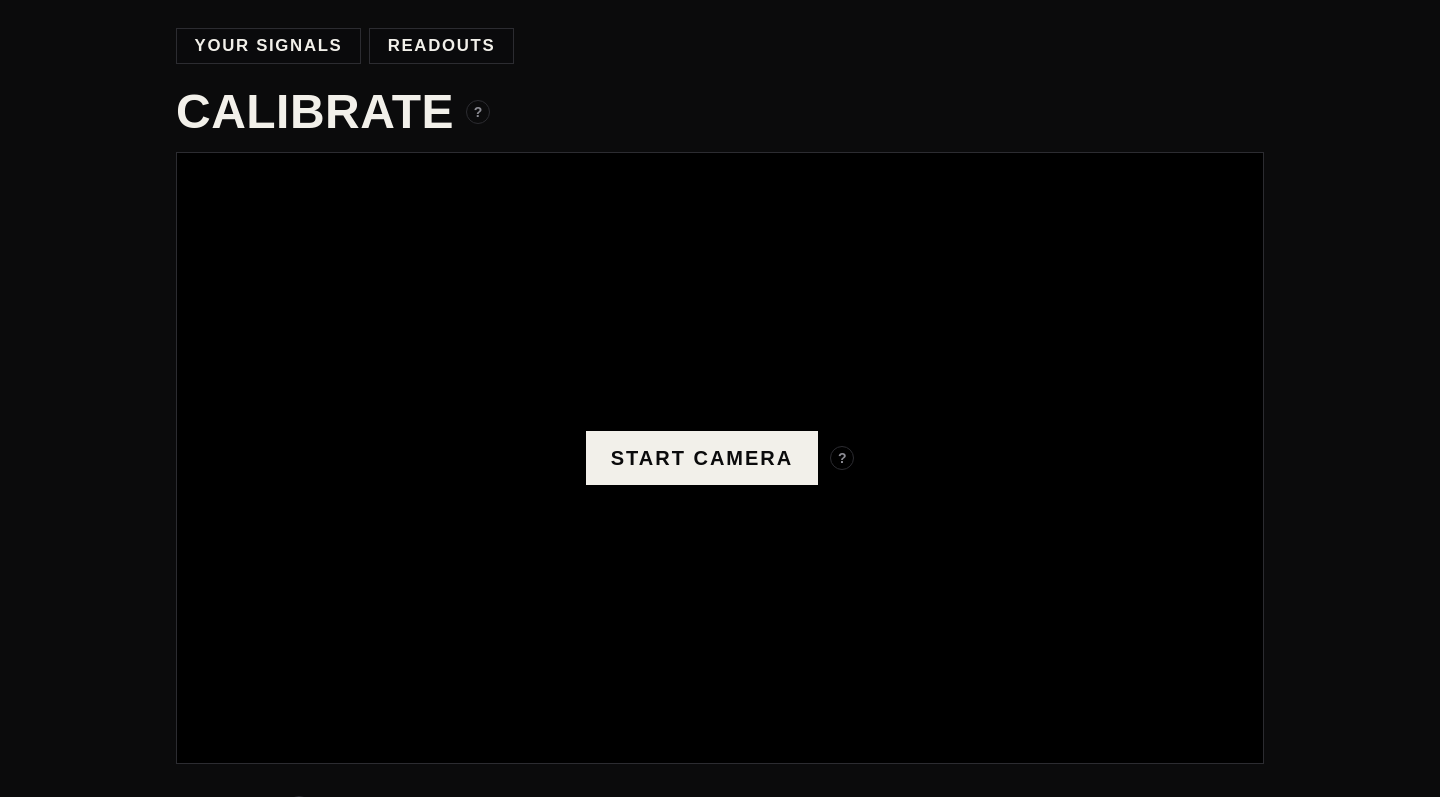
Test: Calibrate › reports hand shape for the hand it can see
Click the button "Start camera" at (702, 458), box [586, 431, 818, 485]
(page scrolled)
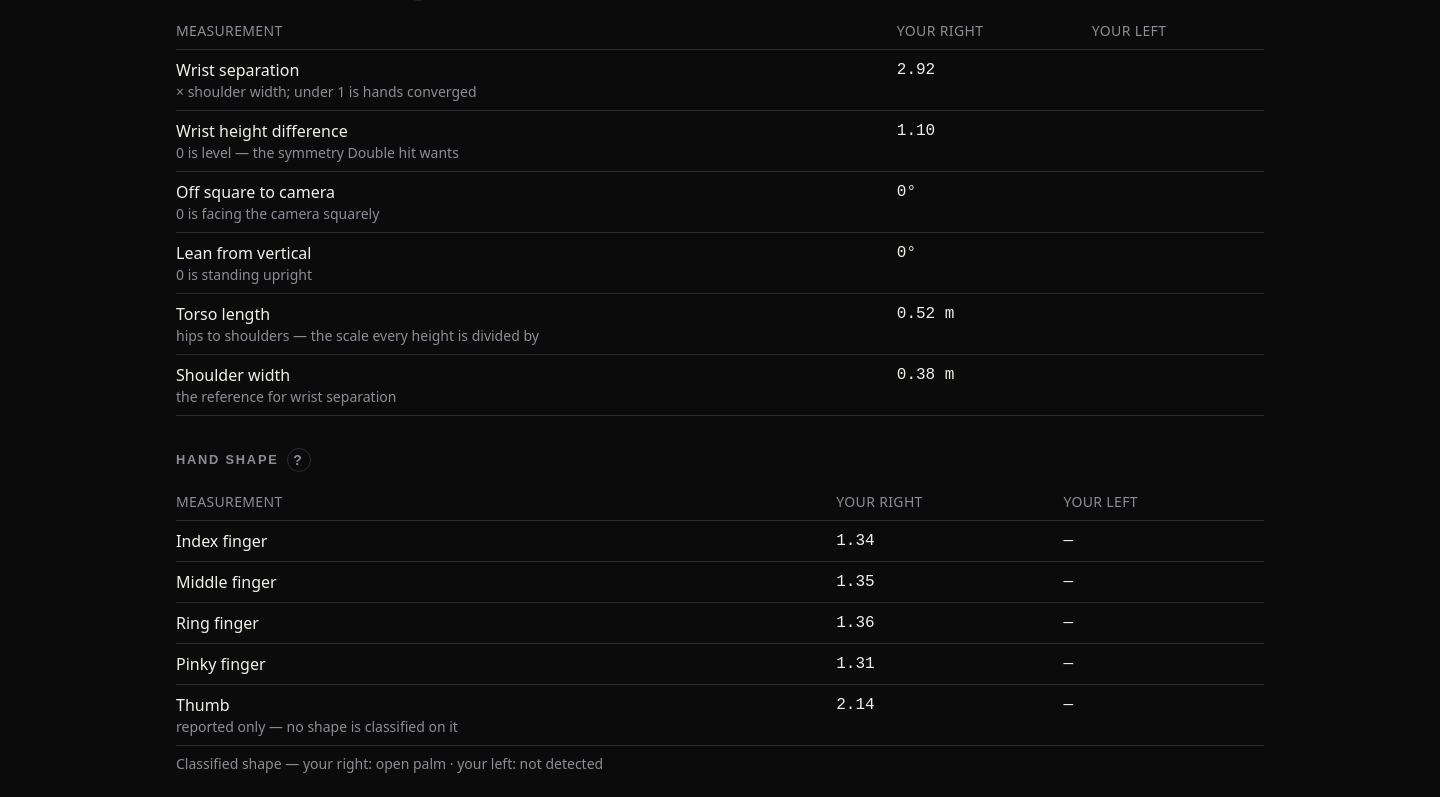
Check: the text "Classified shape" shows "your left: not detected", box [176, 754, 603, 773]
Check: the text "Classified shape" shows "your right: open palm", box [176, 754, 603, 773]
